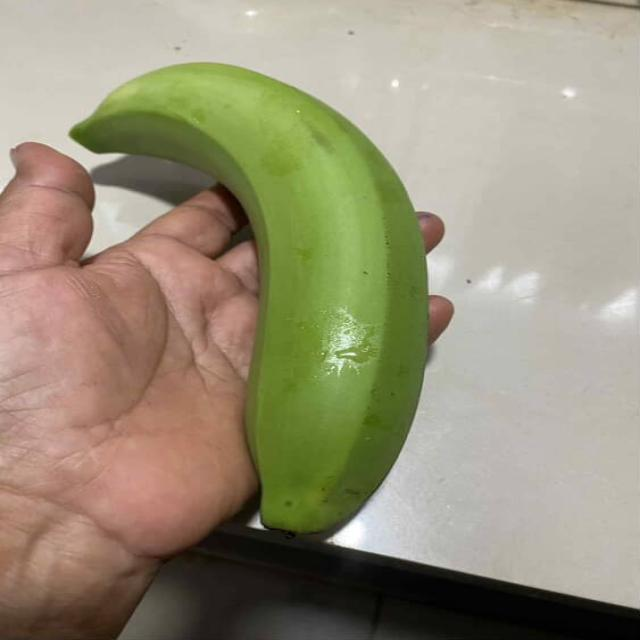Raw: (63, 44, 467, 563)
